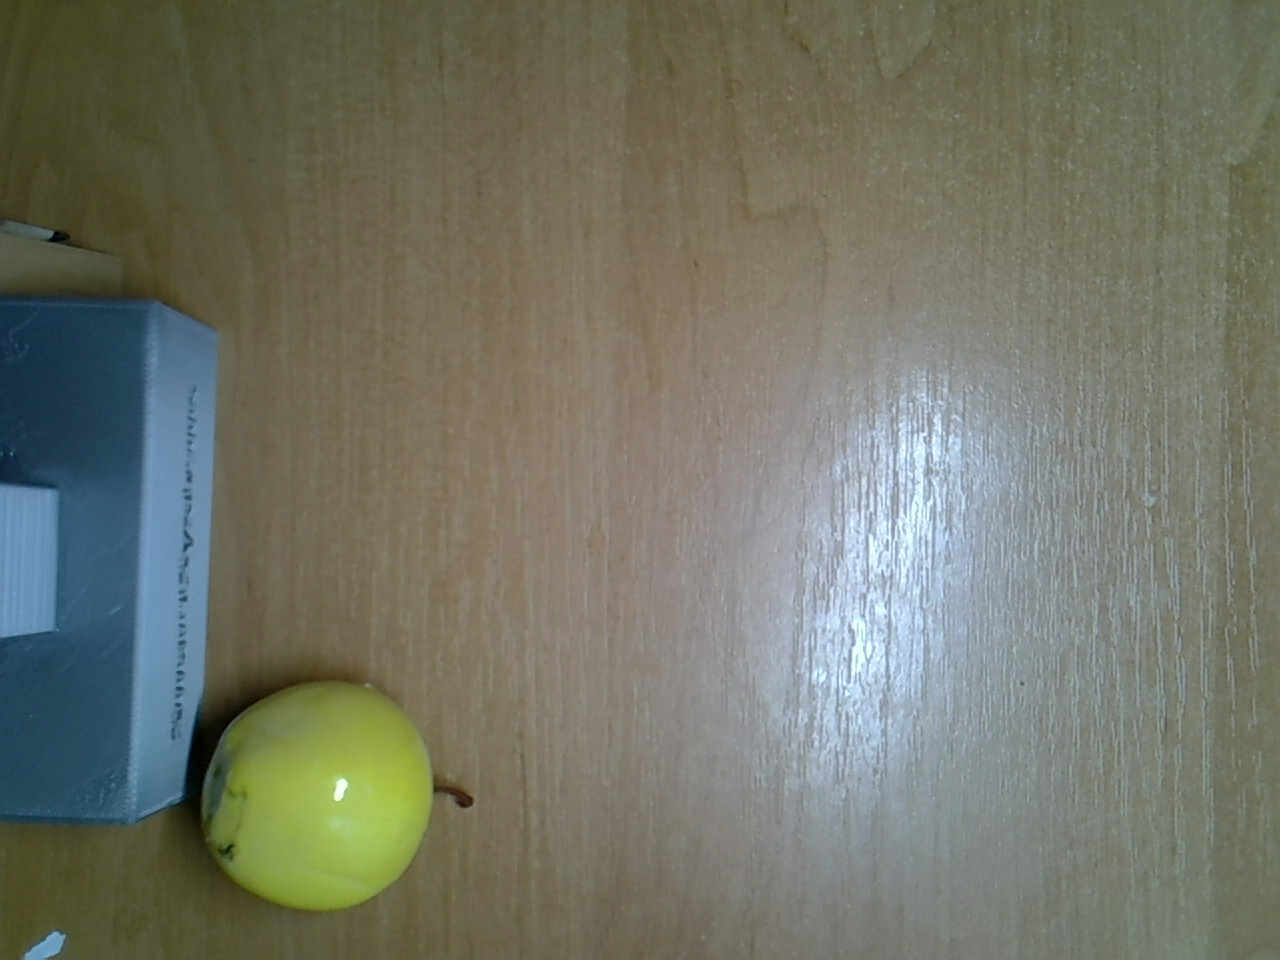apple: (204, 669, 486, 915)
